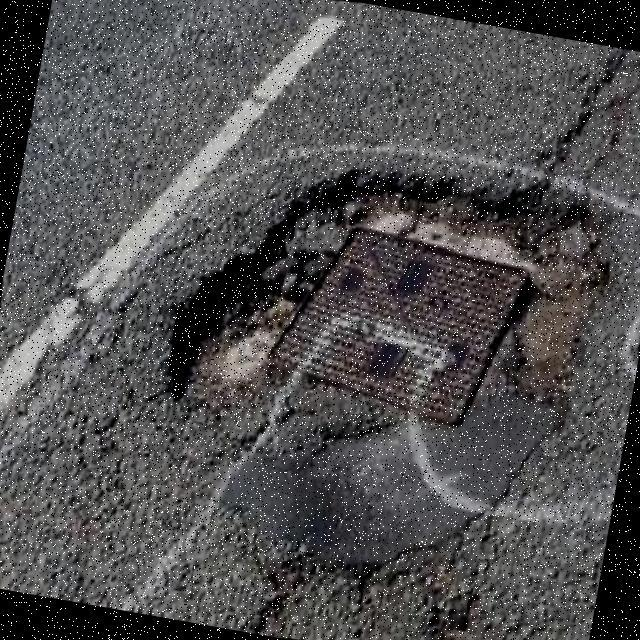Pothole: (169, 172, 594, 565)
